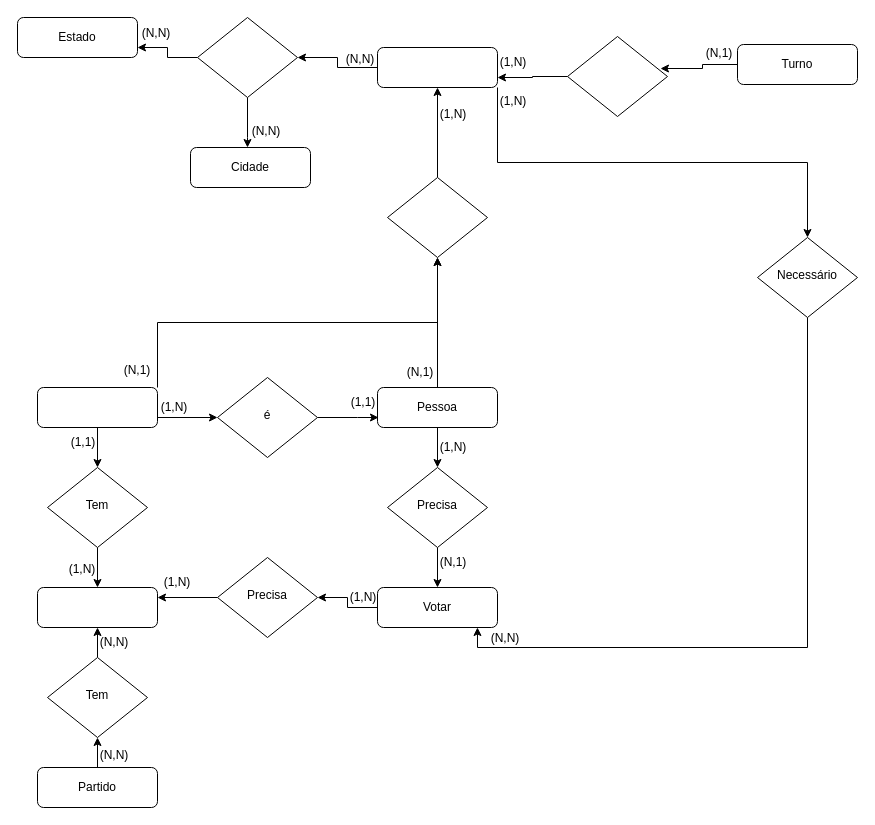
This 875x825 diagram has some shape labels left out. The shapes that lost their labels are listed below. From the top down, each one's centre as x and y in pixels, then its label:
[247,57]: Por
[437,67]: Eleição
[617,76]: Há
[437,217]: Participa
[97,407]: Candidatos
[97,607]: Cargo
